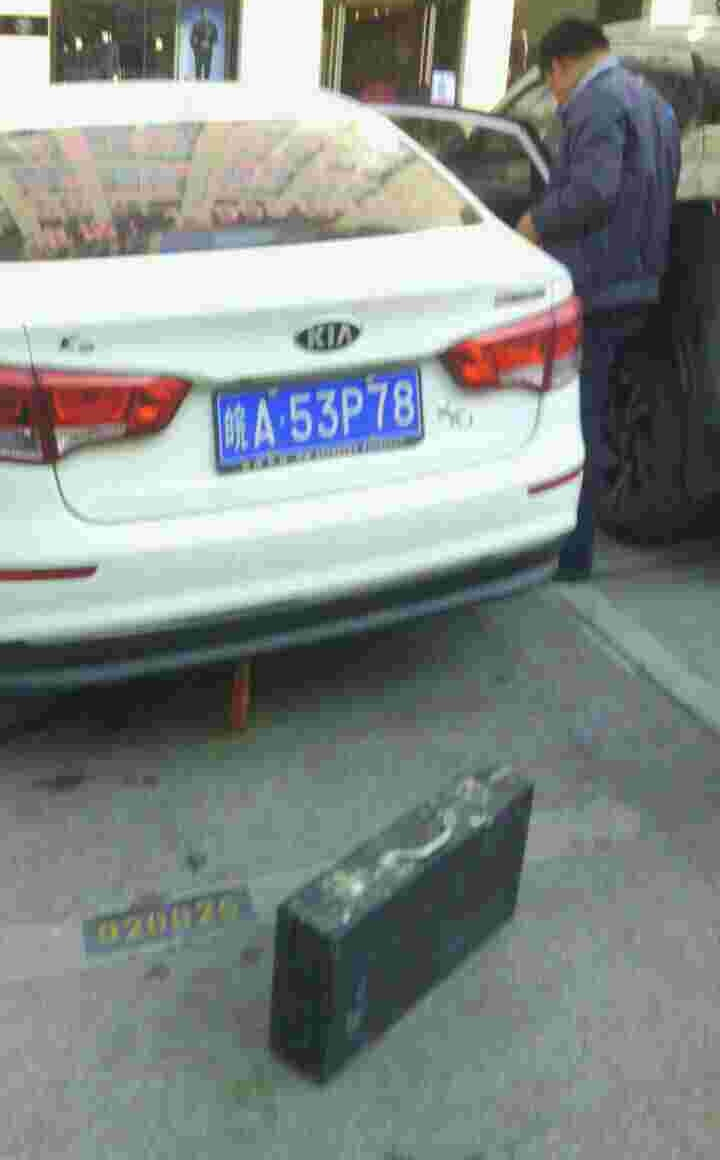license_plate: (213, 375, 418, 468)
